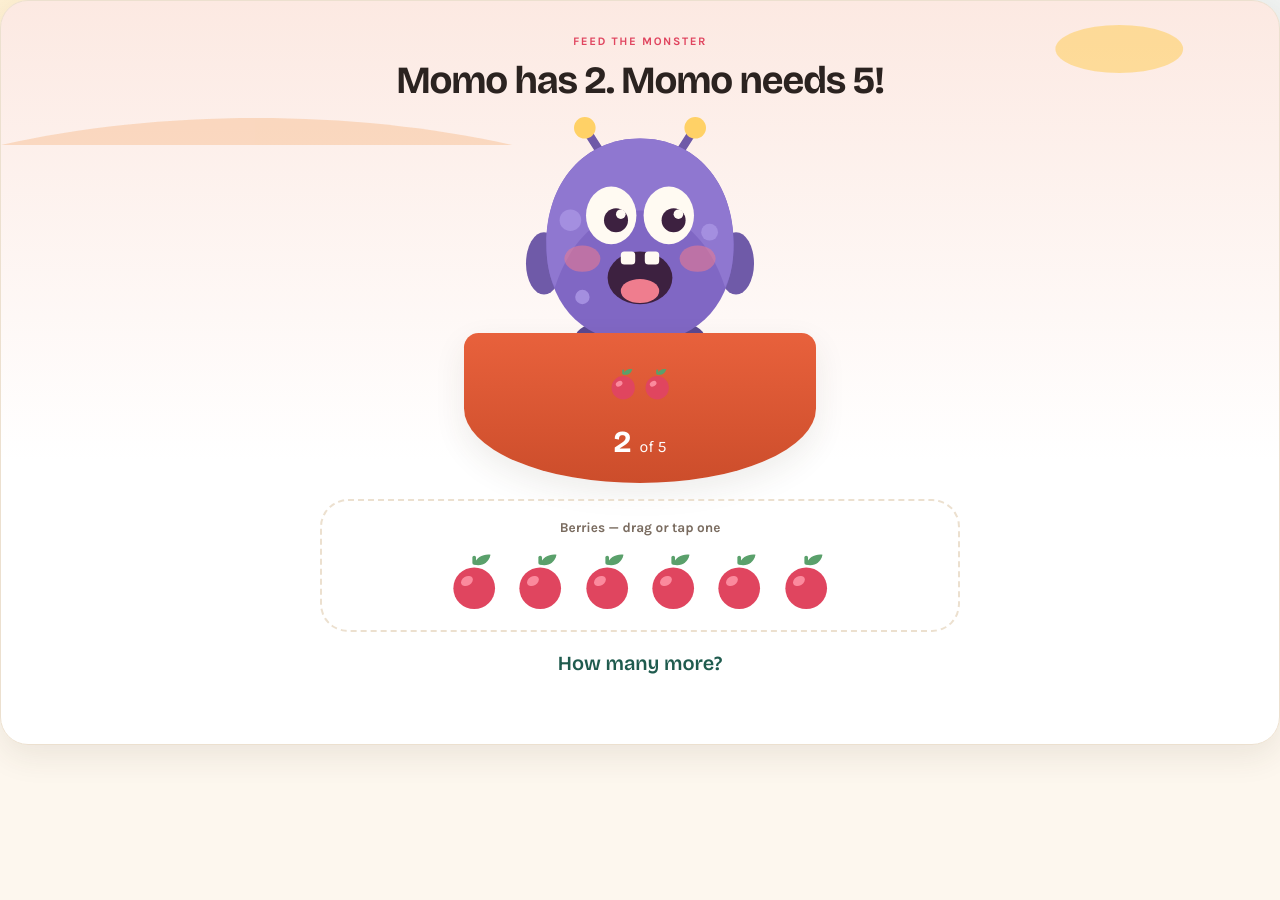
Feed the Monster › reports each berry to the teacher and completes at the target
Press the mouse on the 1st button with class "tray-item": (474, 582) [447, 550, 501, 614]
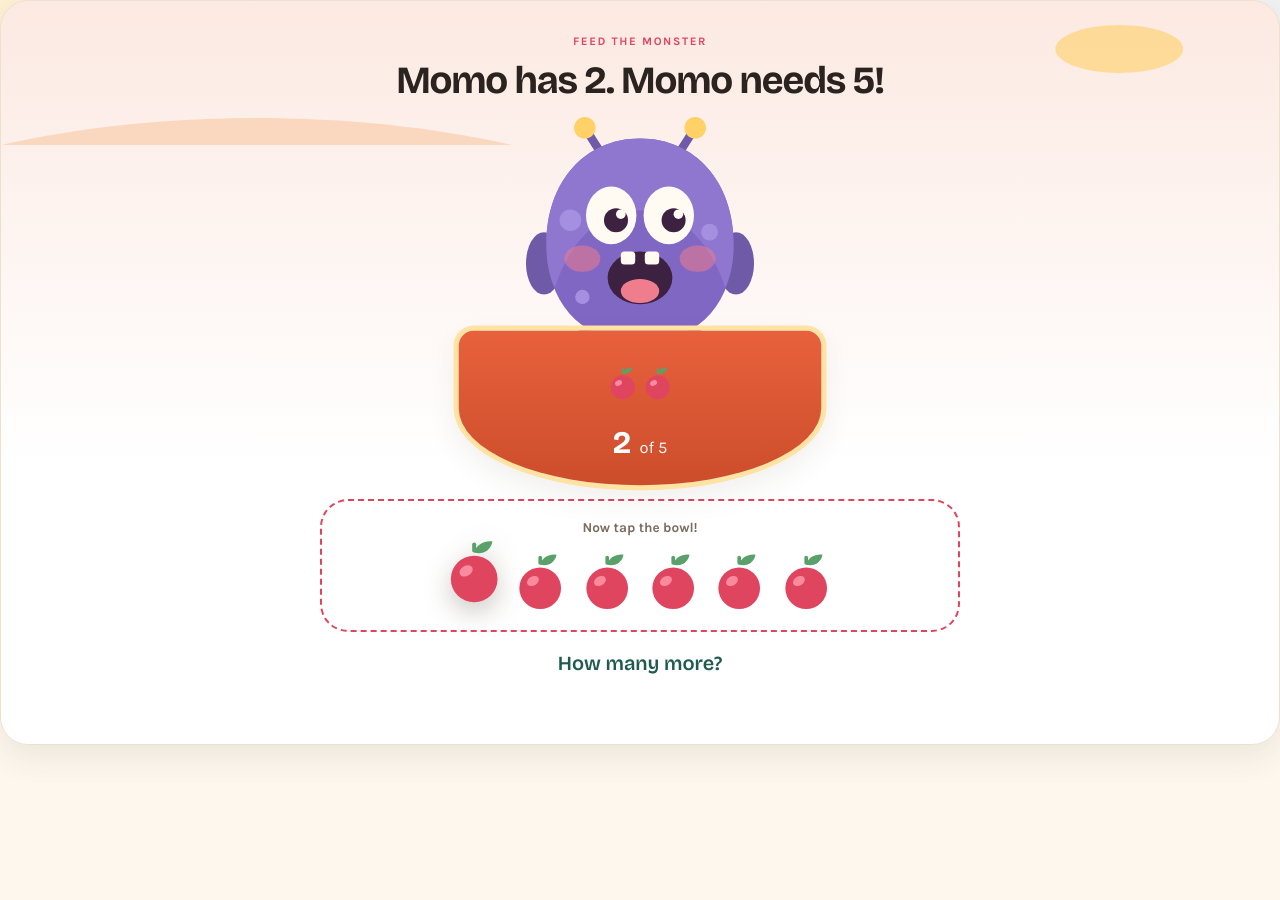
Click the button "2 of 5": (640, 408) [459, 331, 821, 485]
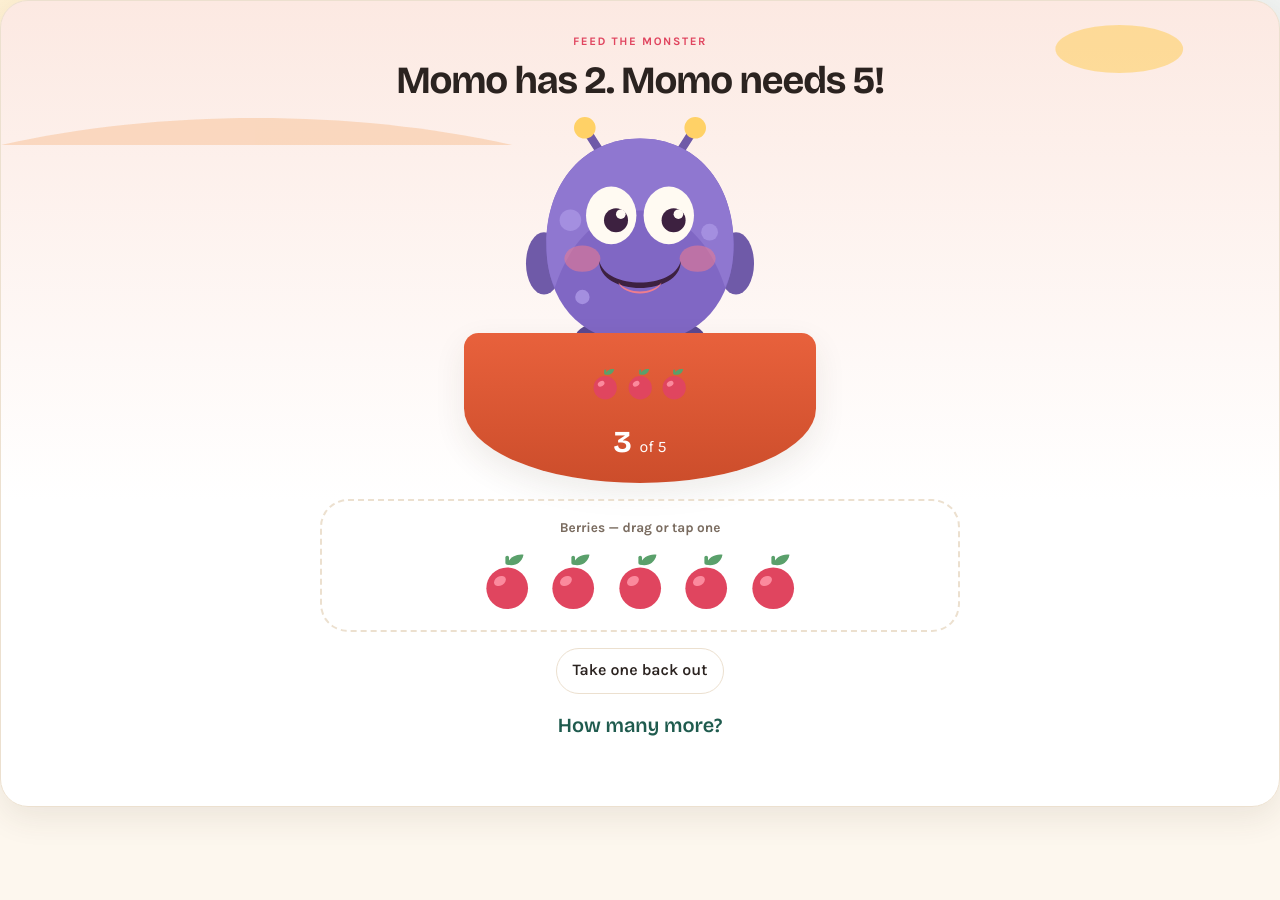
Press the mouse on the 1st button with class "tray-item": (507, 582) [480, 550, 534, 614]
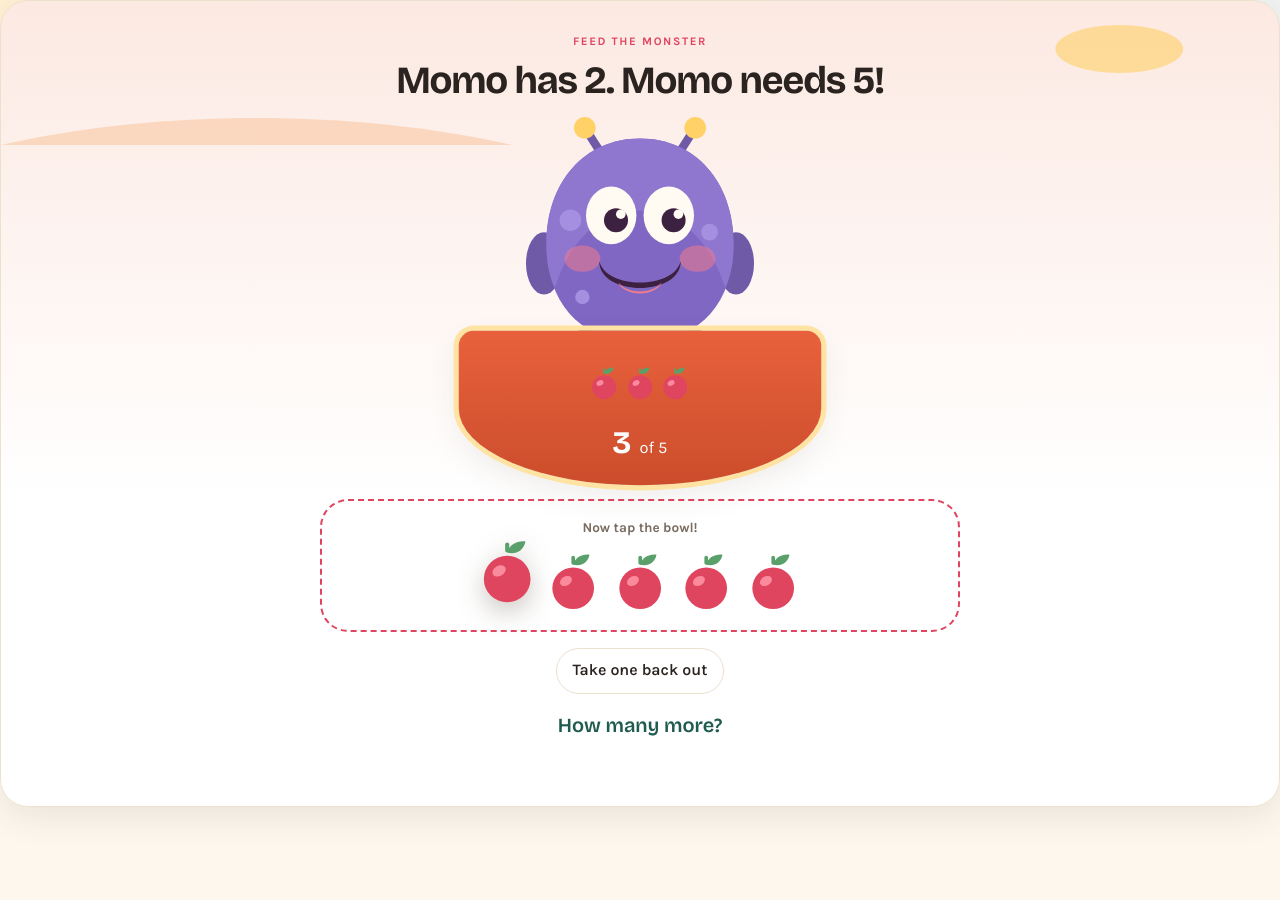
Click the button "3 of 5": (640, 408) [459, 331, 821, 485]
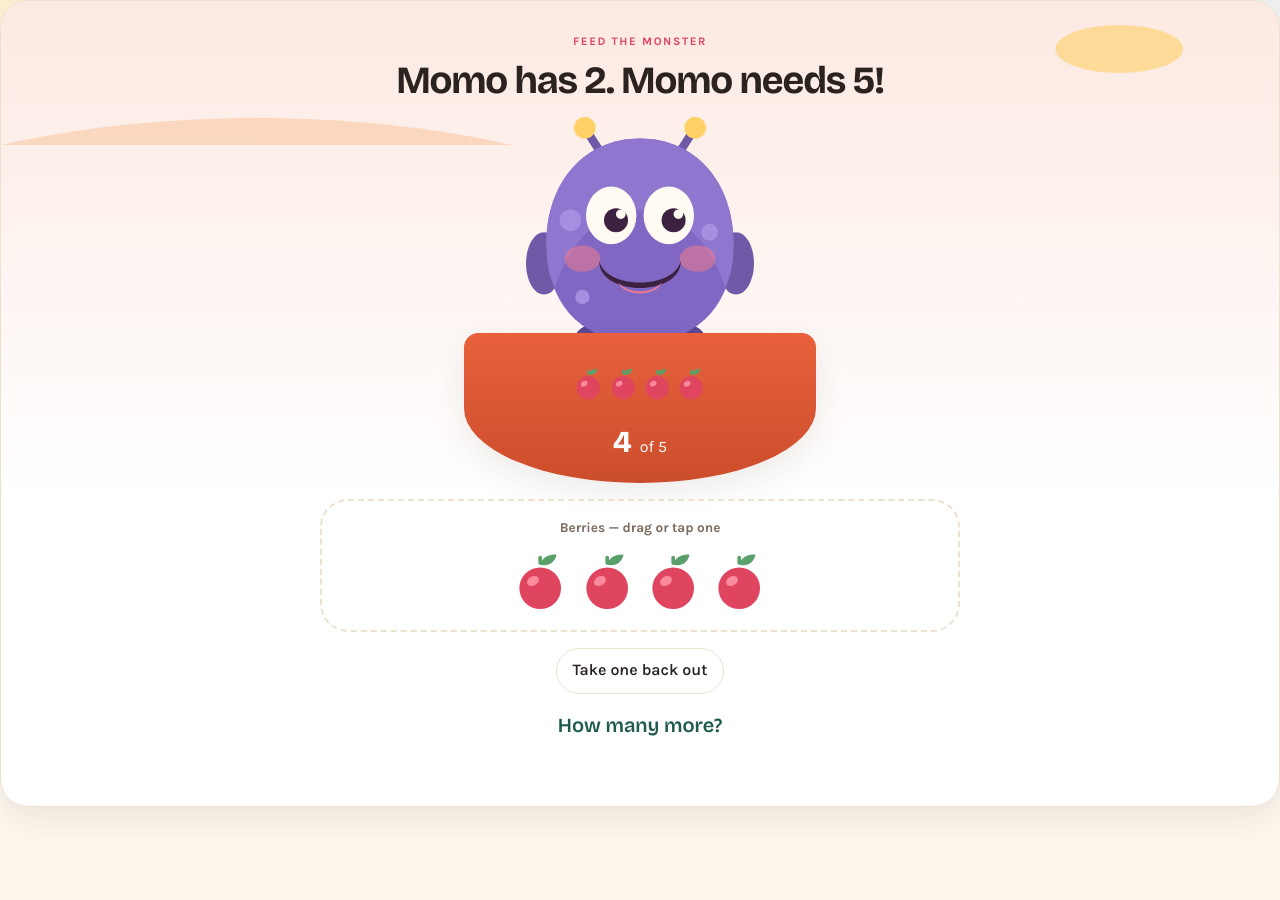
Press the mouse on the 1st button with class "tray-item": (540, 582) [513, 550, 568, 614]
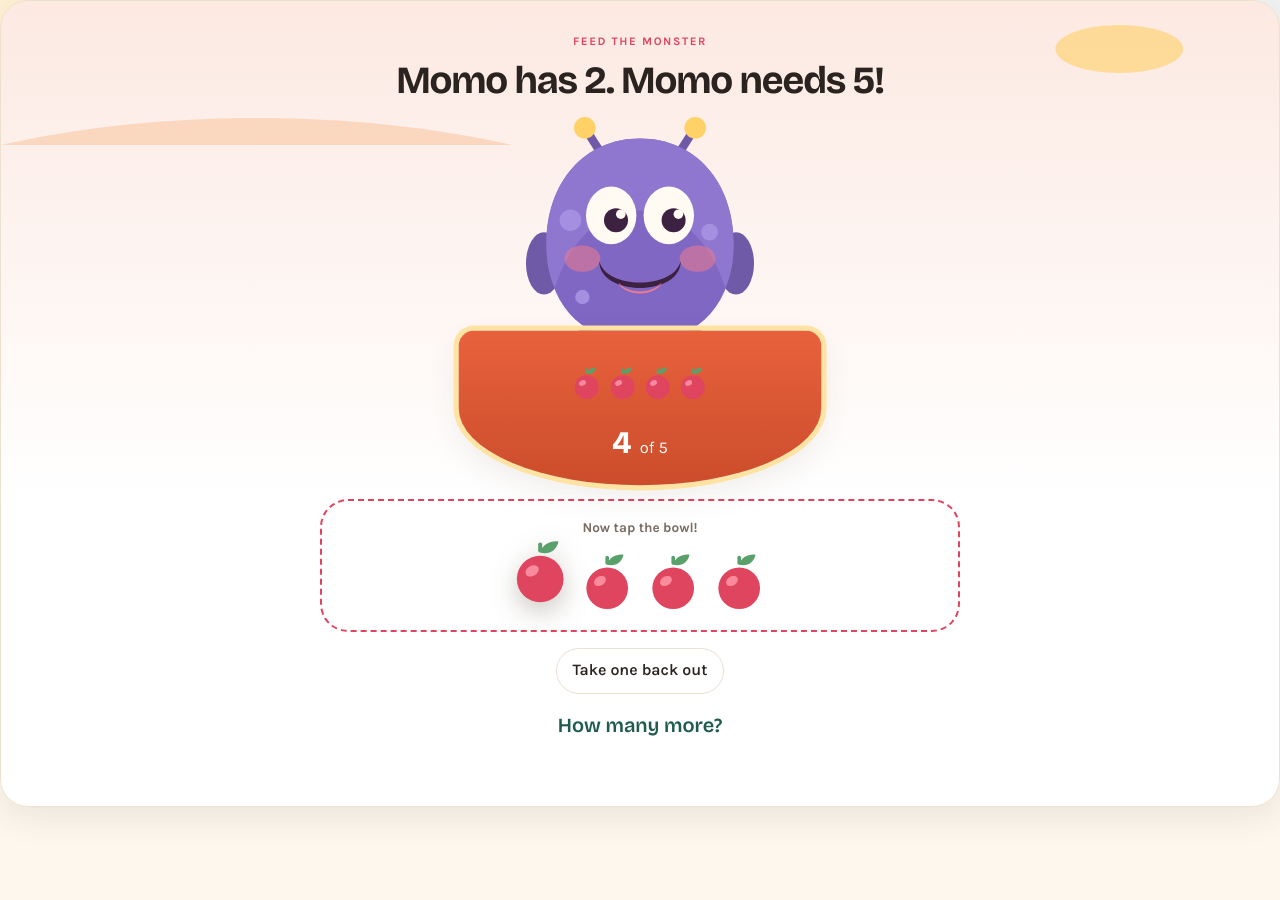
Click the button "4 of 5": (640, 408) [459, 331, 821, 485]
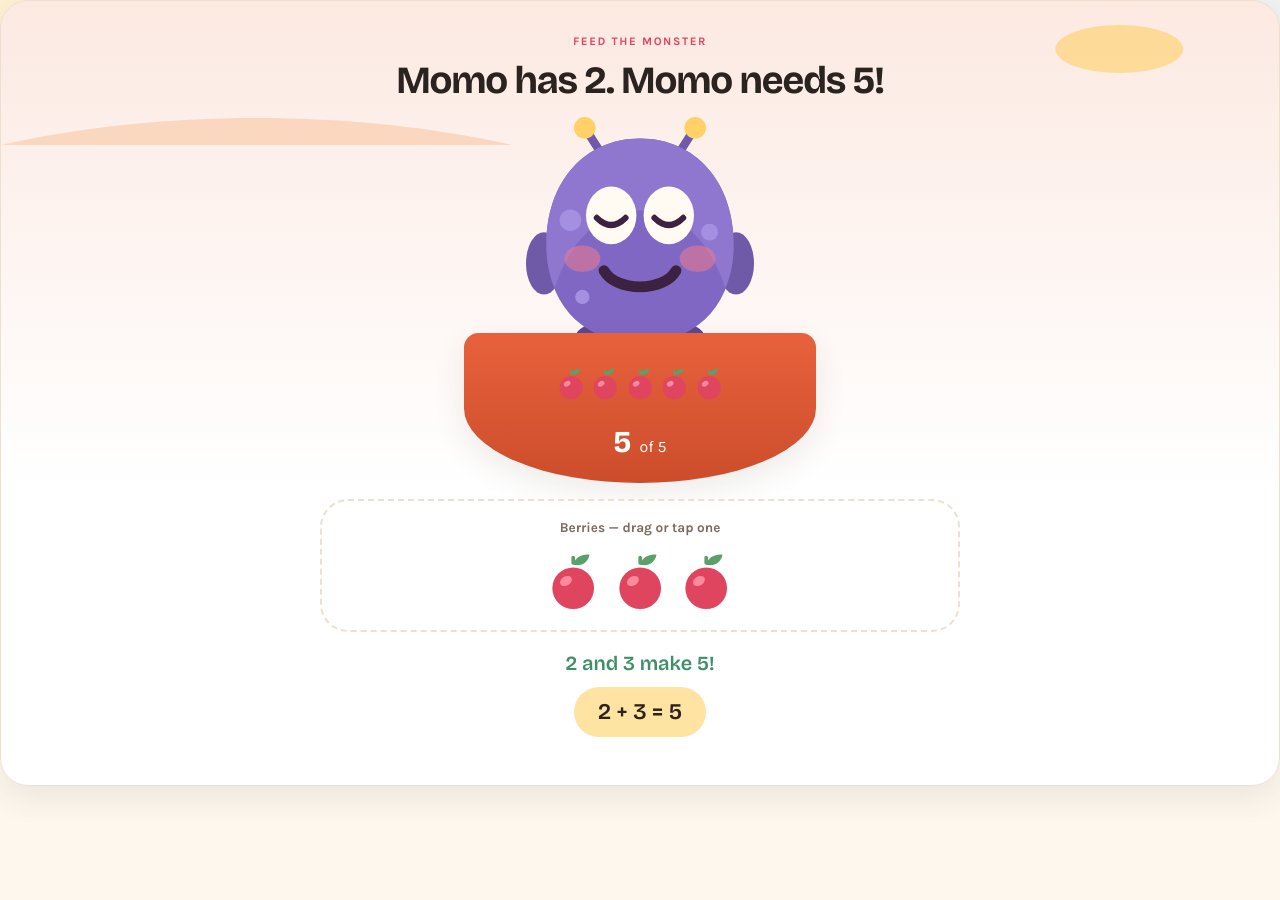
Now the text "2 and 3 make 5! 2 + 3 = 5" is shown, box [566, 648, 714, 737]
